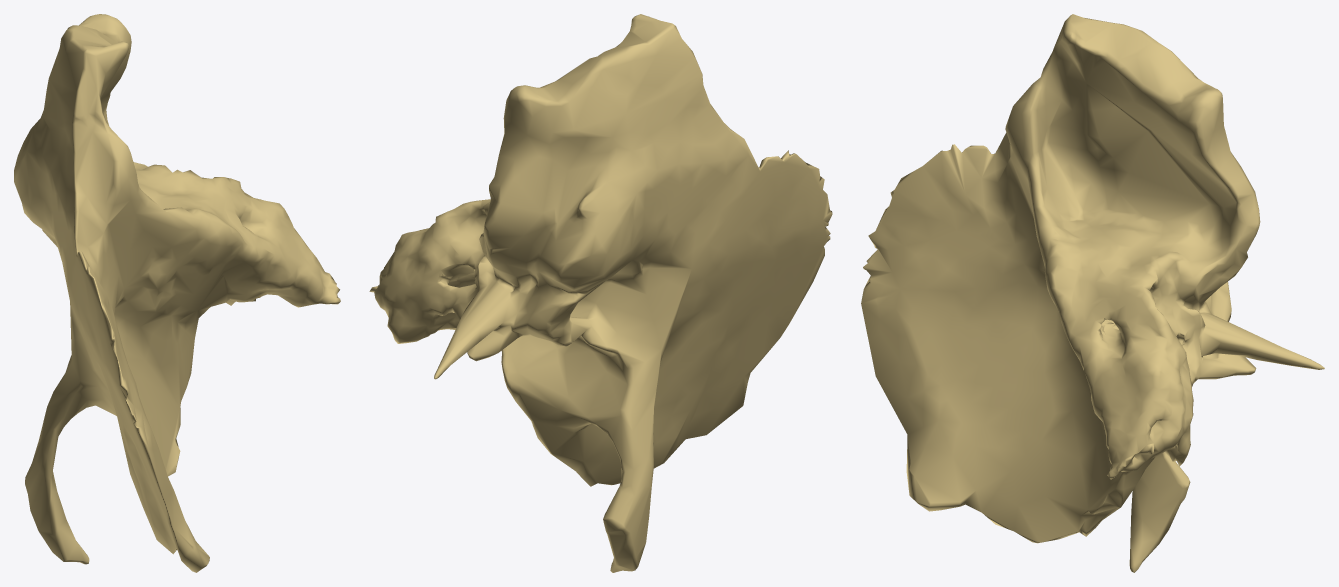
3 renders of one model, left to right at view 1: azimuth 30°, elevation 25°; view 2: azimuth 150°, elevation 25°; view 3: azimuth 270°, elevation 25°, orthographic. The views are drawn at different scales.
Parts seen in each view (by area): view 1: 右侧颞骨; view 2: 右侧颞骨; view 3: 右侧颞骨.
Boxes of the visible parts, x1,y1,x2,y2 form: 右侧颞骨: (14, 14, 340, 572); 右侧颞骨: (369, 14, 832, 572); 右侧颞骨: (861, 14, 1324, 572).
Bounding box in the file's own units: 0.0925 × 0.142 × 0.1096.
